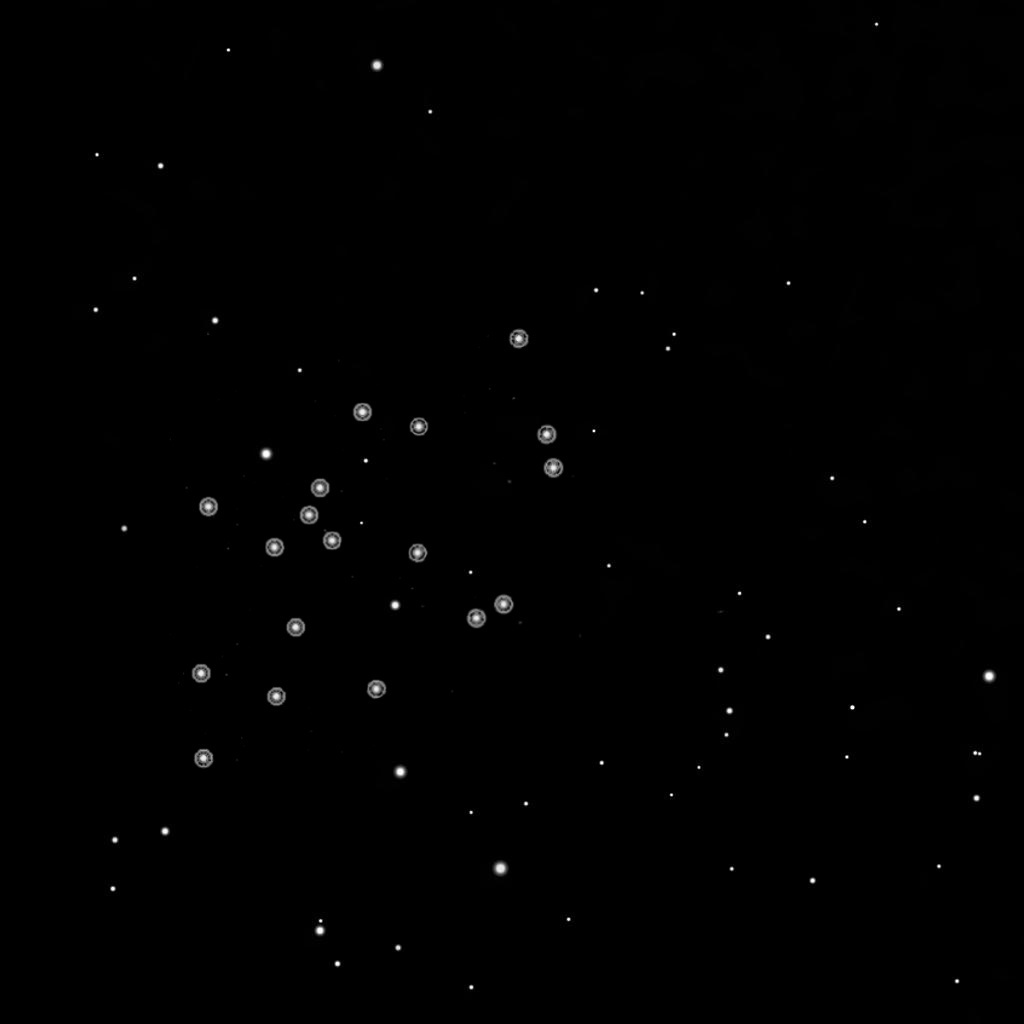canis_major: (257, 401, 433, 565)
